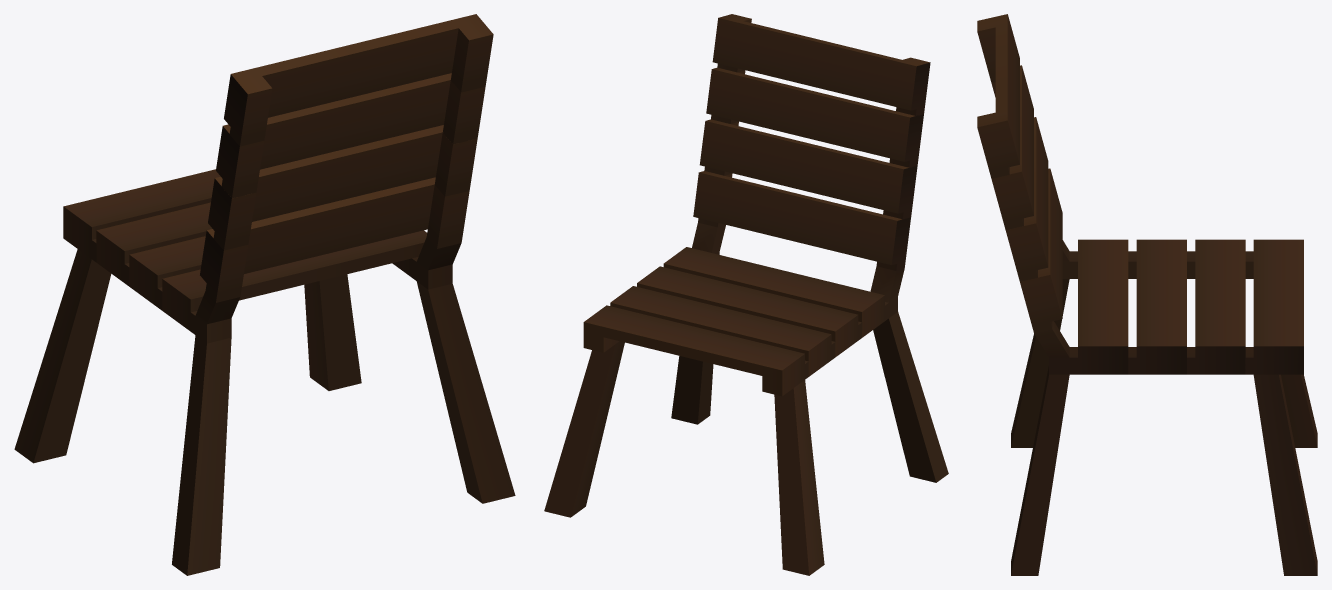
Rendered from chair.obj.
The picture shows the model from 3 angles, left to right: view 1: azimuth 30°, elevation 25°; view 2: azimuth 150°, elevation 25°; view 3: azimuth 270°, elevation 25°; orthographic projection. The views are drawn at different scales.
Visible parts, largest first — view 1: chair; view 2: chair; view 3: chair.
Boxes of the visible parts, <box> form: chair: <box>14,14,515,575</box>; chair: <box>544,14,948,575</box>; chair: <box>977,14,1317,575</box>.
Bounding box in the file's own units: 34.83 × 50 × 35.25.
1 material, 1 textured.
